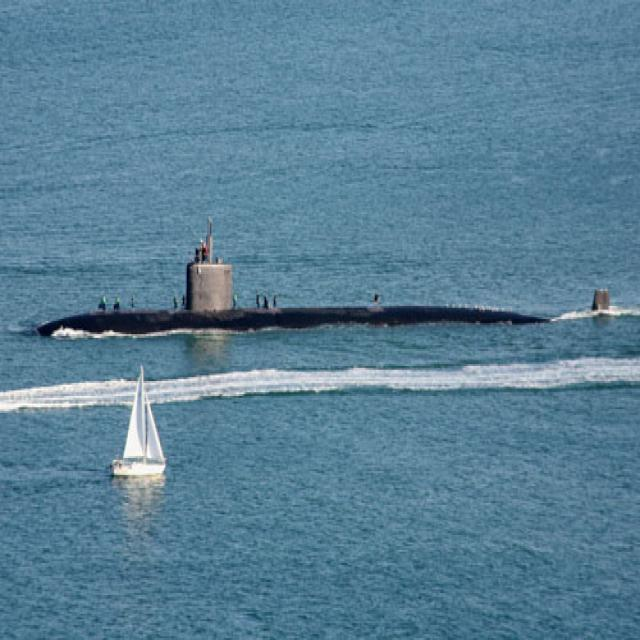Ship: (36, 245, 627, 353), (110, 371, 170, 486)
